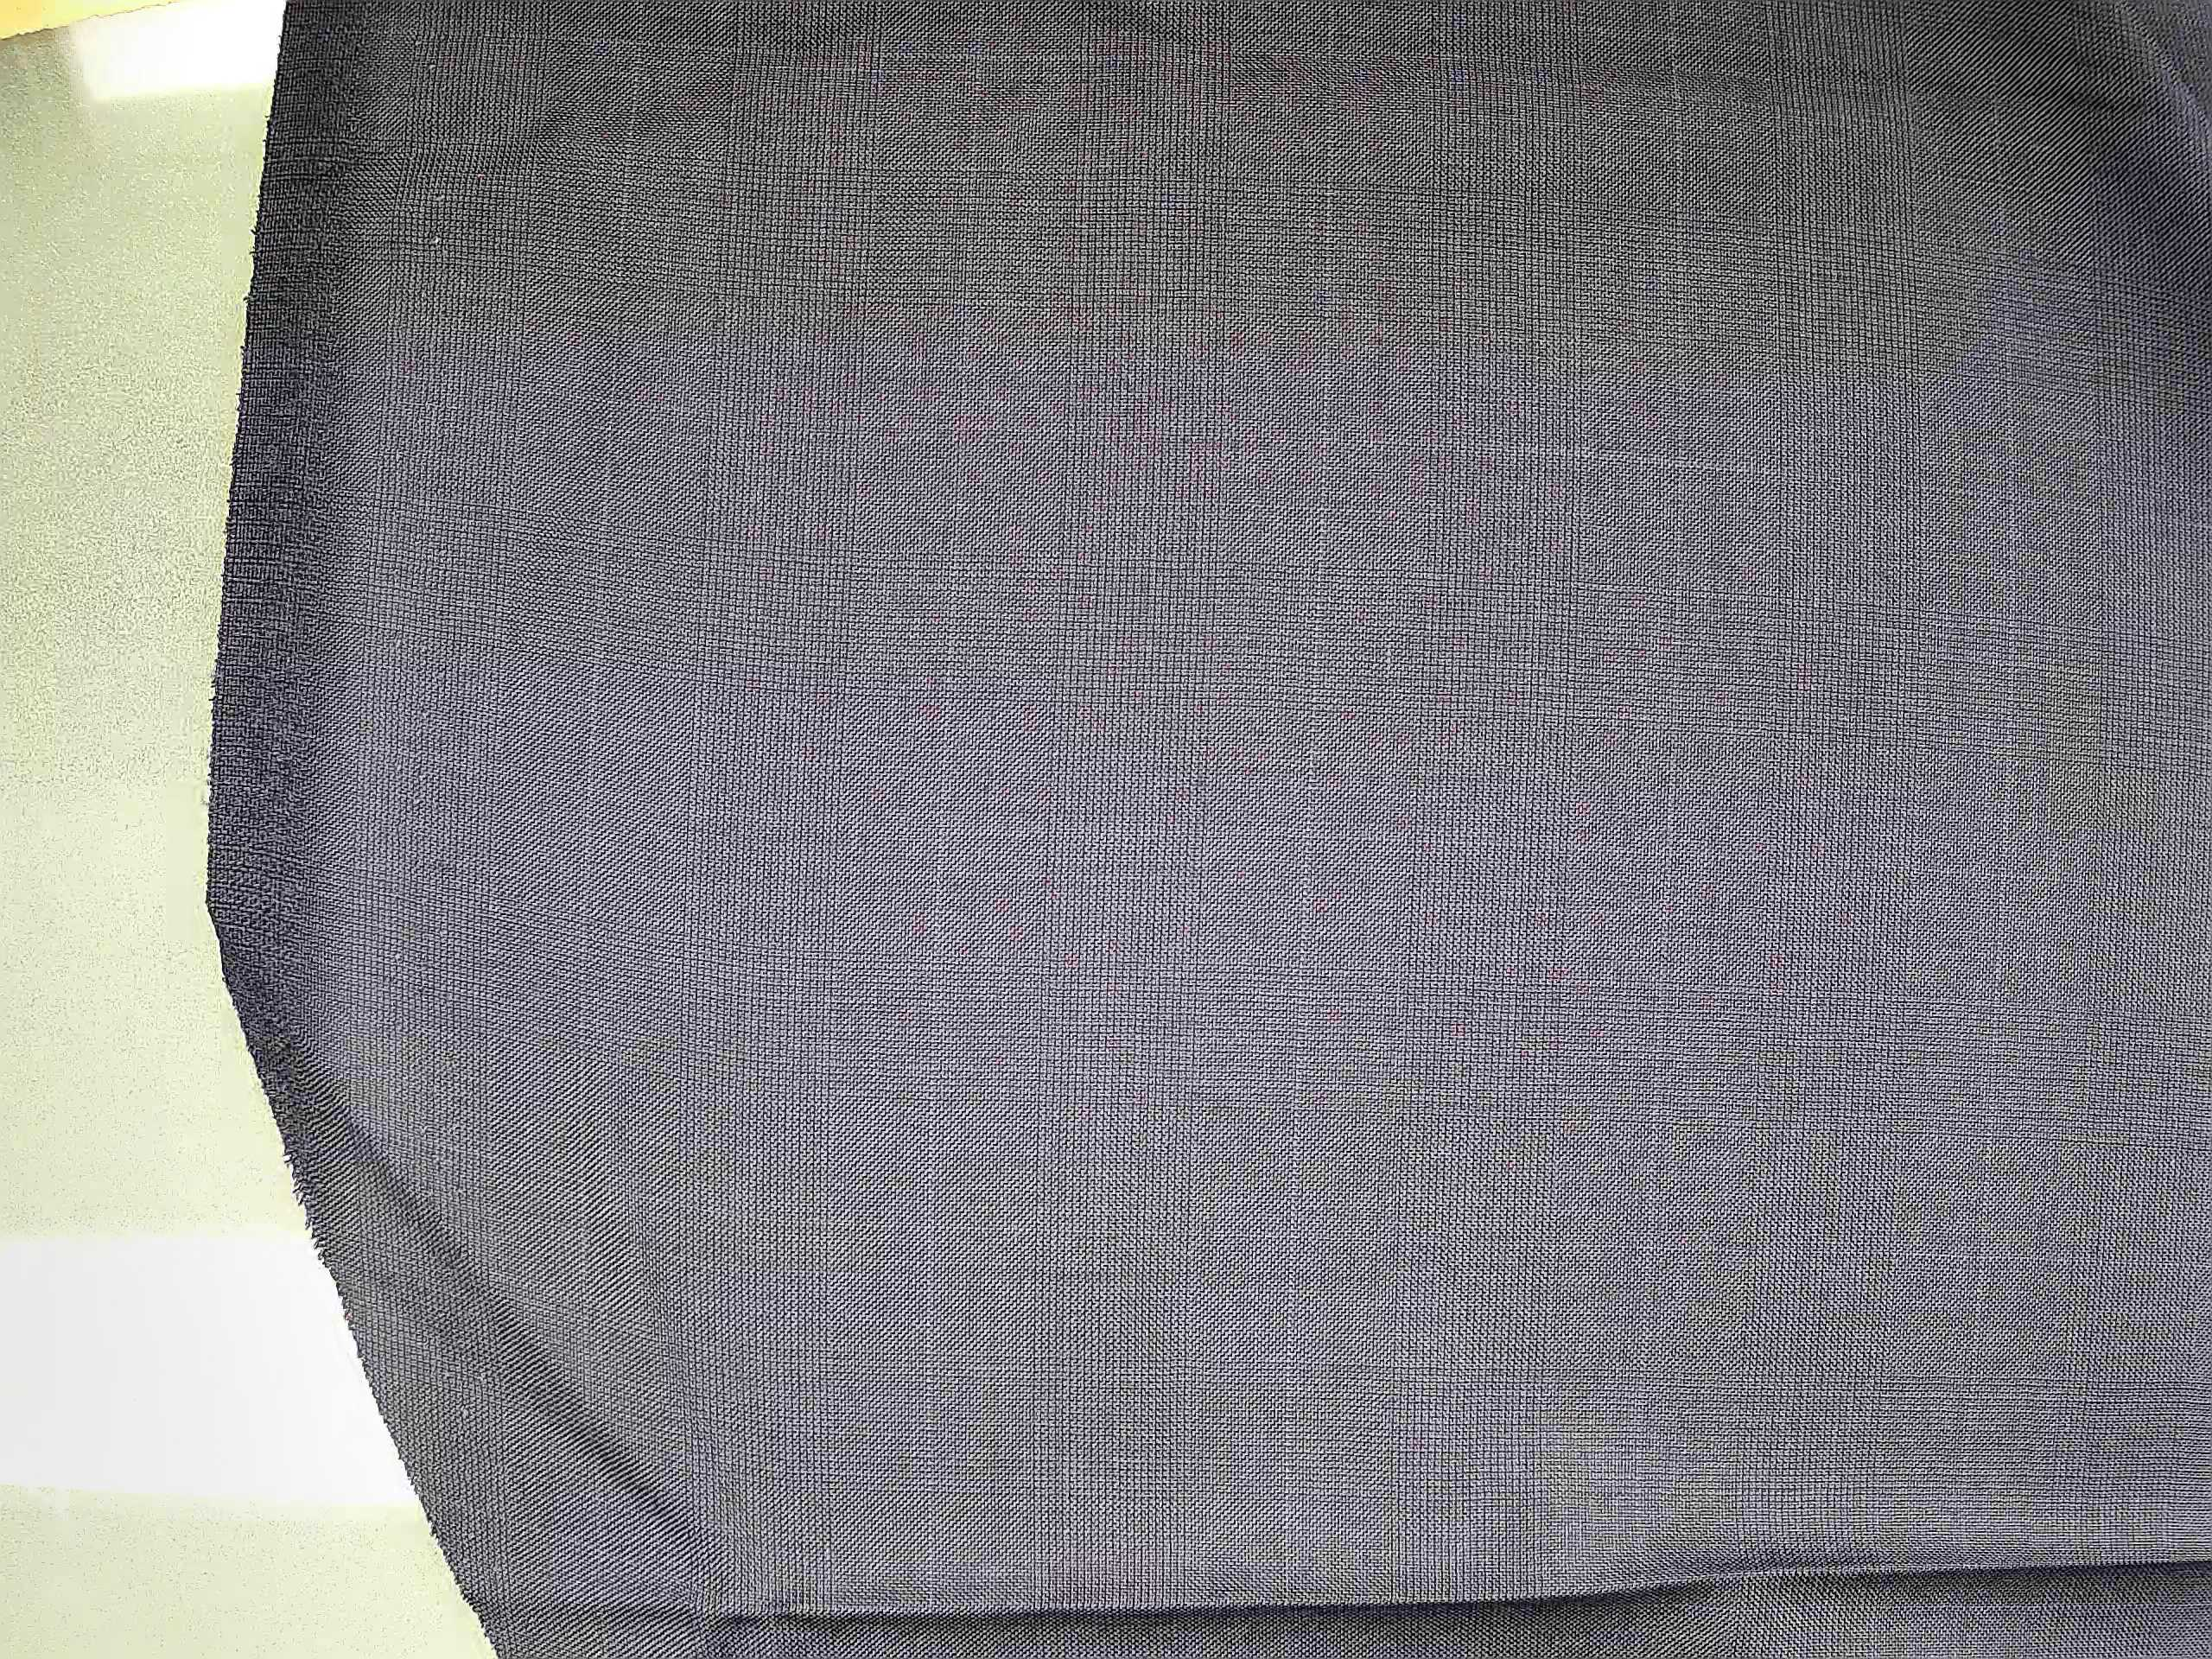others: (106, 751, 455, 1425)
